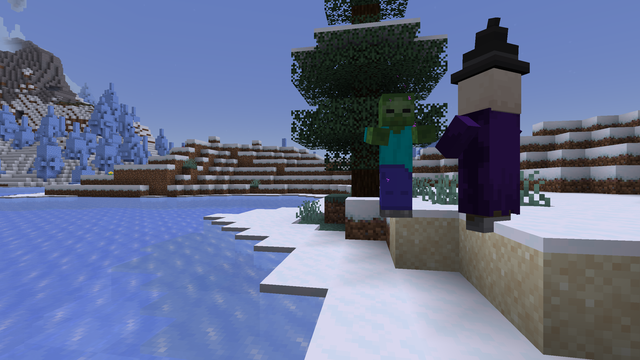sorcieres: (453, 59, 529, 235)
zombies: (376, 94, 417, 219)
